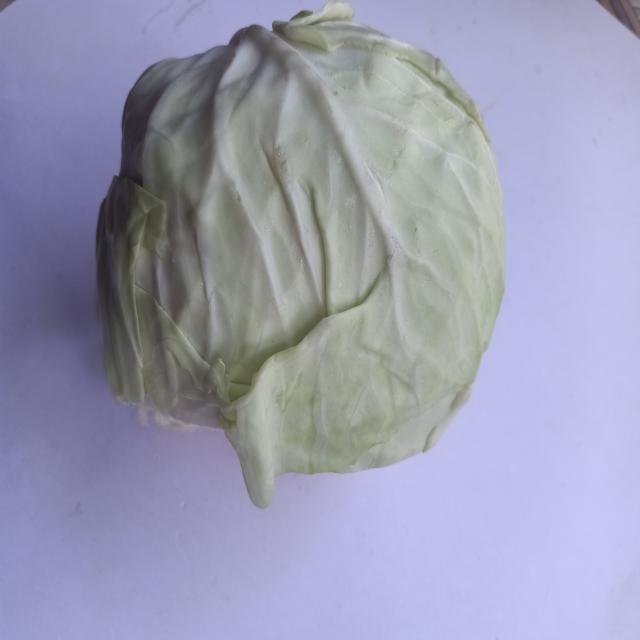Cabbage: (74, 0, 540, 521)
